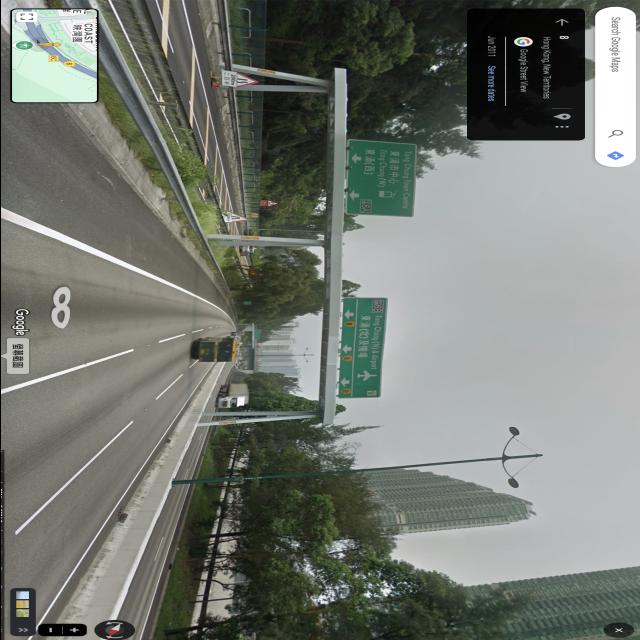Direction-Sign: (345, 139, 420, 218), (336, 298, 387, 399)
Warning-Sign: (231, 71, 258, 88), (229, 212, 249, 223), (265, 199, 278, 207)
